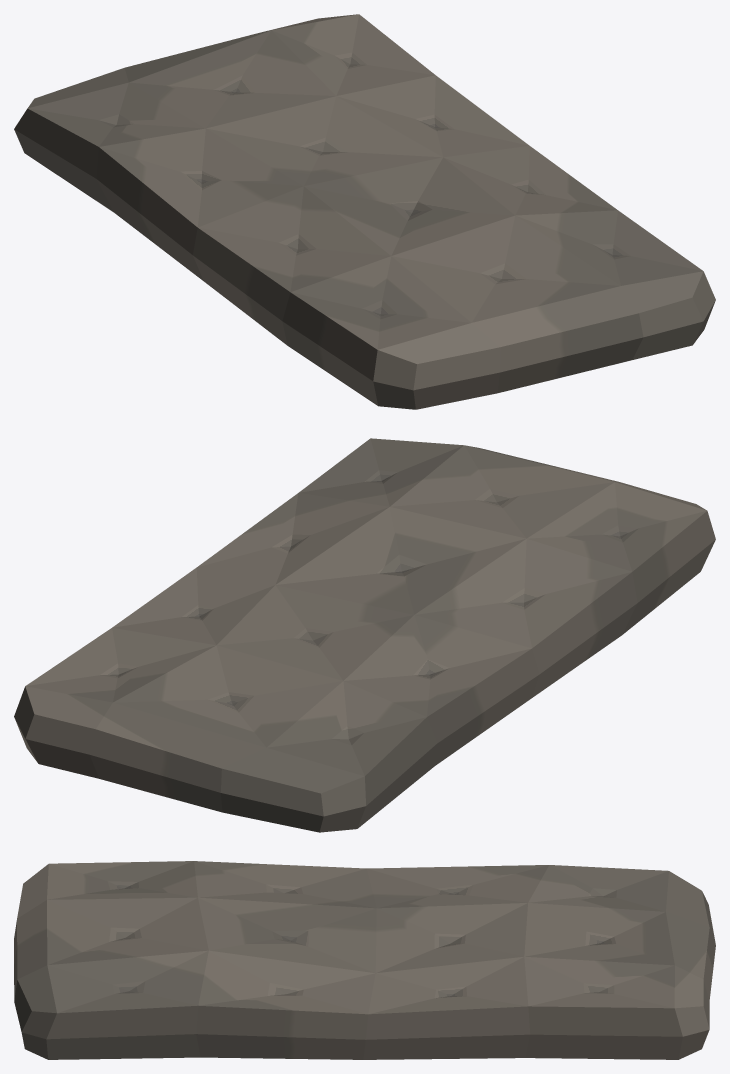
File: SM_Prop_Bed_Mattress_01.fbx
The picture shows the model from 3 angles, top to bottom: view 1: azimuth 30°, elevation 25°; view 2: azimuth 150°, elevation 25°; view 3: azimuth 270°, elevation 25°; orthographic projection. The views are drawn at different scales.
Visible parts, largest first — view 1: SM_Prop_Bed_Mattress_01; view 2: SM_Prop_Bed_Mattress_01; view 3: SM_Prop_Bed_Mattress_01.
Boxes of the visible parts, box(x1,y1,x2,y2) form: SM_Prop_Bed_Mattress_01: box(14, 14, 715, 409); SM_Prop_Bed_Mattress_01: box(14, 438, 715, 832); SM_Prop_Bed_Mattress_01: box(14, 861, 715, 1059).
Size of the model in its own units: 98 by 19.59 by 190.
